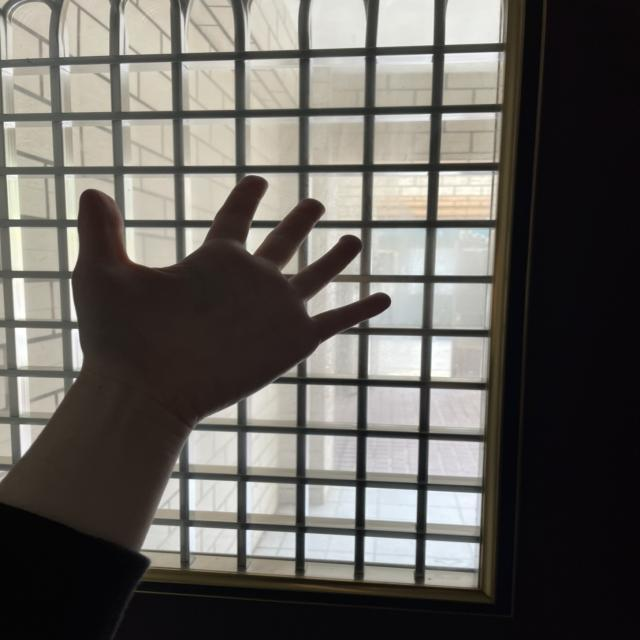hand: (53, 163, 407, 430)
